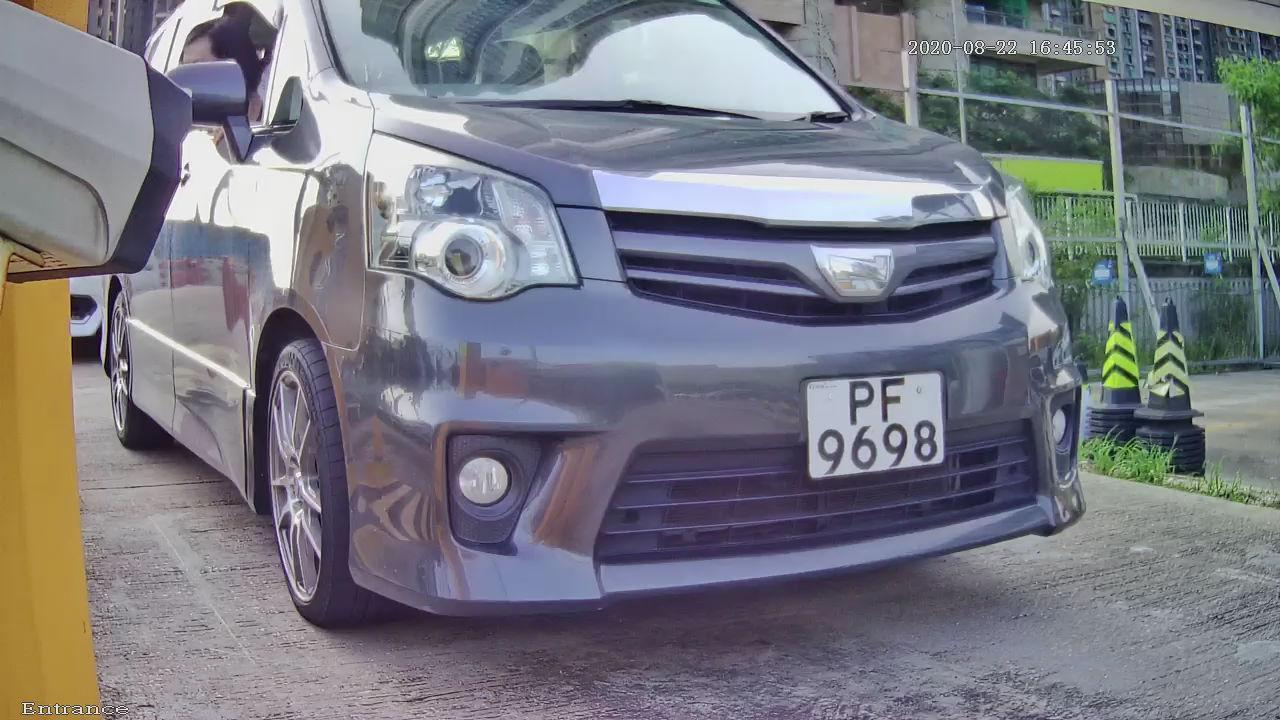Car: (121, 1, 1138, 676)
License Plate: (795, 361, 949, 489)
